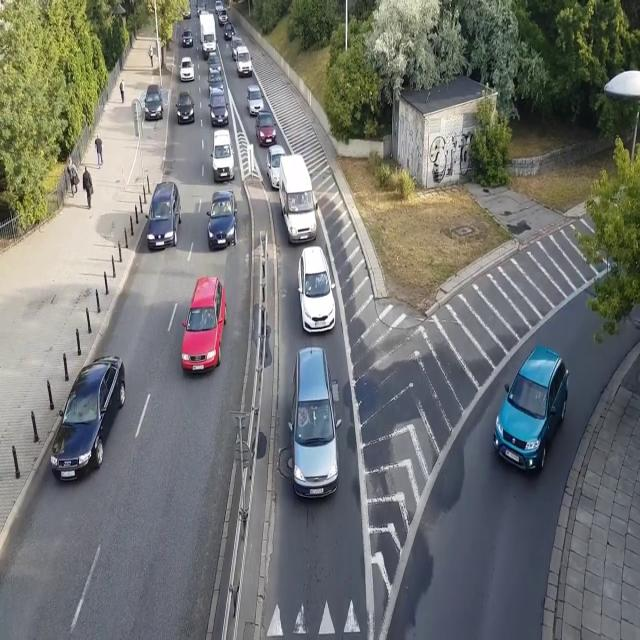car: (491, 344, 569, 478), (50, 355, 126, 484), (286, 347, 342, 501), (181, 276, 227, 375), (297, 244, 337, 334), (145, 182, 182, 252), (206, 190, 238, 250), (266, 145, 287, 190), (208, 88, 229, 126), (256, 110, 277, 146), (144, 84, 164, 120), (175, 91, 195, 124), (247, 84, 264, 118), (207, 70, 224, 96), (179, 56, 195, 82), (207, 54, 222, 74), (182, 28, 194, 48), (223, 21, 235, 41), (218, 9, 228, 27), (215, 0, 224, 13)
truck: (199, 14, 218, 60)
van: (279, 154, 318, 245), (210, 130, 235, 182), (236, 46, 253, 78), (231, 36, 243, 61)
